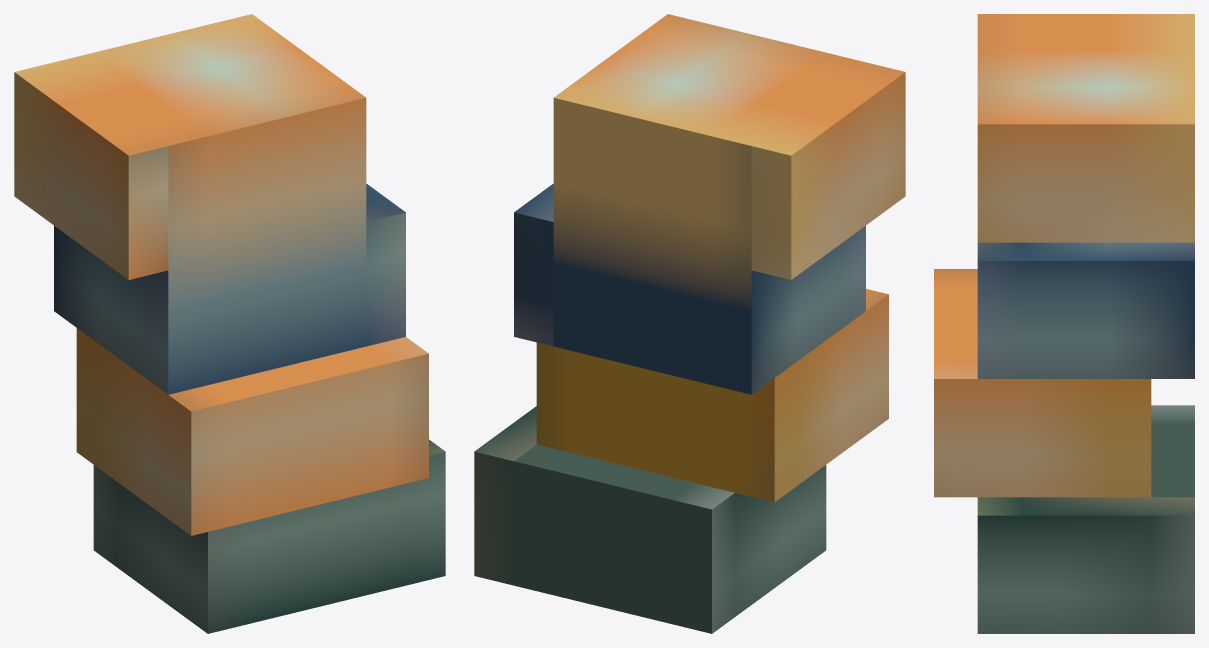
Rendered from BookStackTaller_A_00.obj.
The picture shows the model from 3 angles, left to right: view 1: azimuth 30°, elevation 25°; view 2: azimuth 150°, elevation 25°; view 3: azimuth 270°, elevation 25°; orthographic projection. The views are drawn at different scales.
Visible parts, largest first — view 1: BookStackTaller_A_00; view 2: BookStackTaller_A_00; view 3: BookStackTaller_A_00.
Part boxes in pixels (x1,y1,x2,y2): BookStackTaller_A_00: [14, 14, 445, 633]; BookStackTaller_A_00: [474, 14, 905, 633]; BookStackTaller_A_00: [934, 14, 1194, 633].
Bounding box in the file's own units: 0.4 × 0.6 × 0.3.
